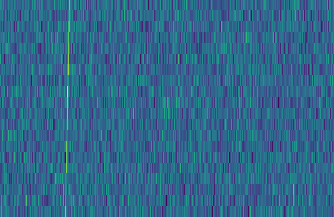signal: (58, 0, 71, 217)
